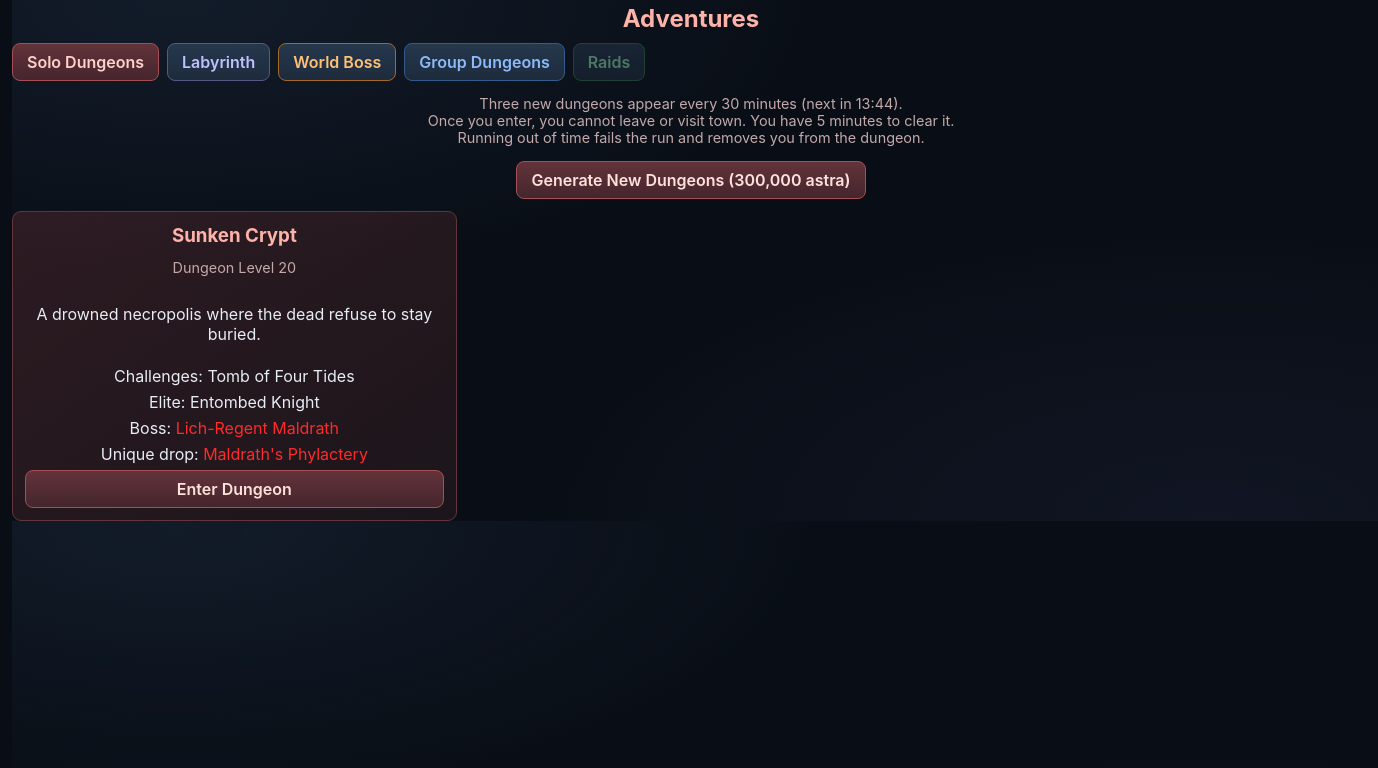
Test: level 40 characters can open the Group Dungeons lobby
Click the button "Group Dungeons": (484, 62) top-left (404, 43), bottom-right (565, 81)
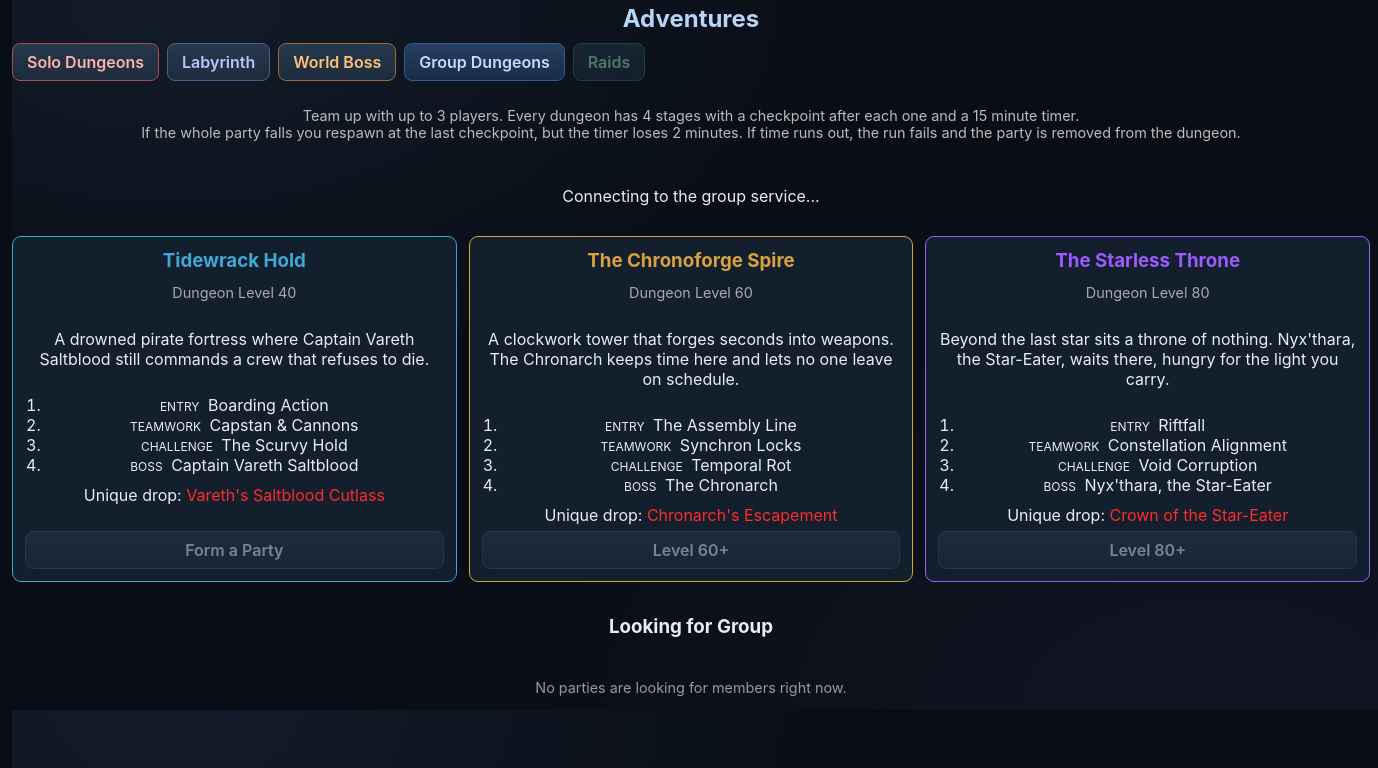
Now the heading "Tidewrack Hold" is shown, box top-left (163, 249), bottom-right (306, 272)
Now the heading "Looking for Group" is shown, box top-left (609, 614), bottom-right (773, 638)
